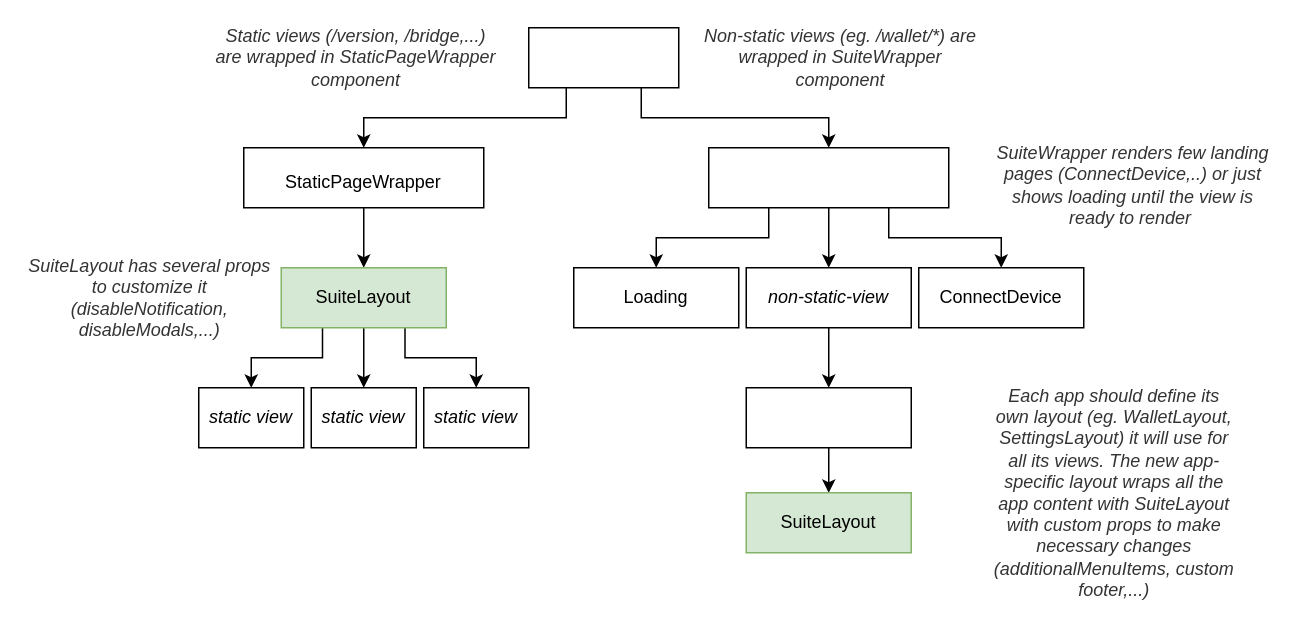
This 1301x627 diagram has some shape labels left out. The box of each missing label's shape, as (x1, y1, x2, y2) in pixels:
app-specific layout: (745, 386, 911, 448)
Preloader: (527, 26, 679, 88)
SuiteWrapper: (707, 146, 949, 208)
